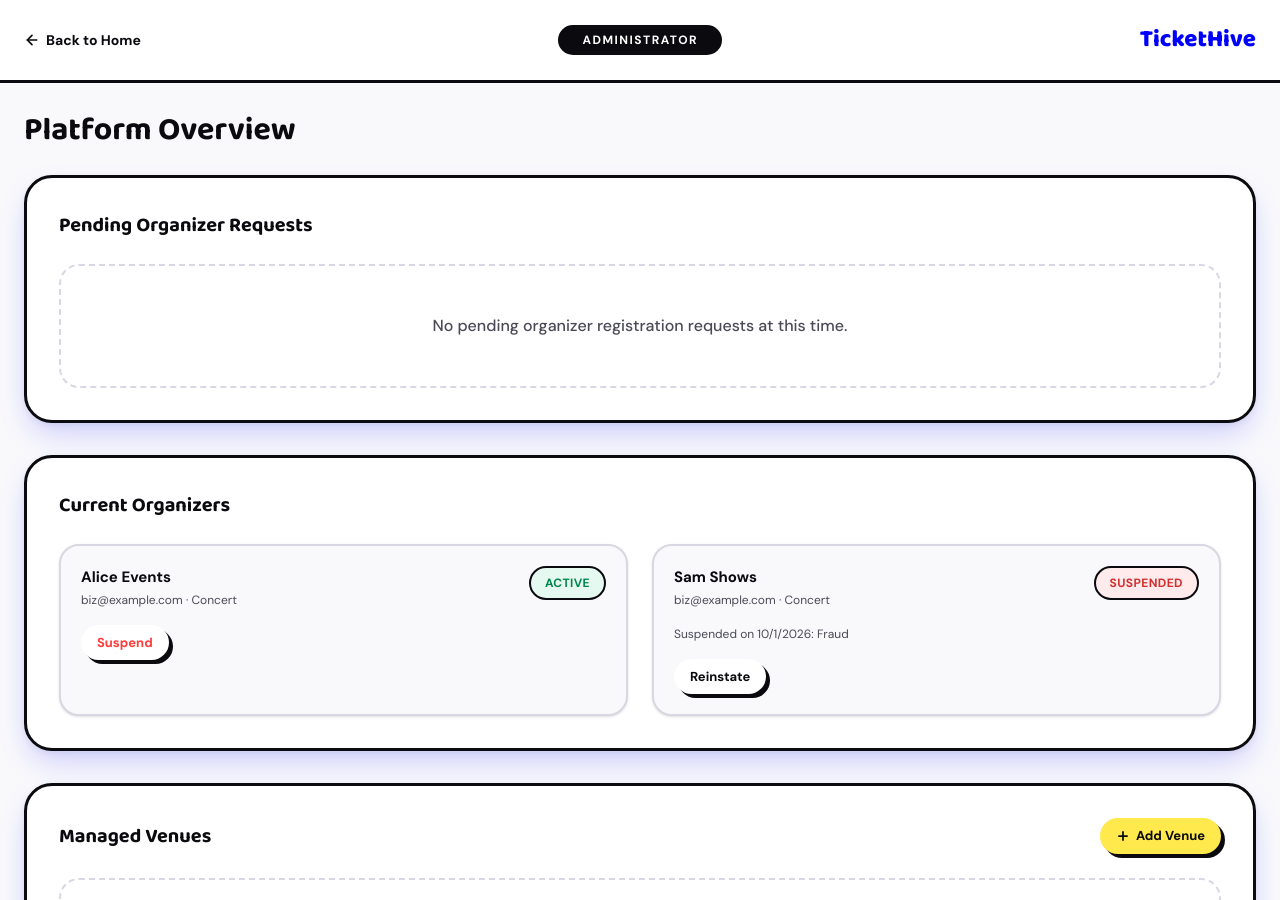
Test: AdminDashboard organizer suspension › keeps the dialog open and shows the ProblemDetails message when the server refuses
Click the button with aria-label "Suspend Alice Events": (125, 642) [81,624,169,660]
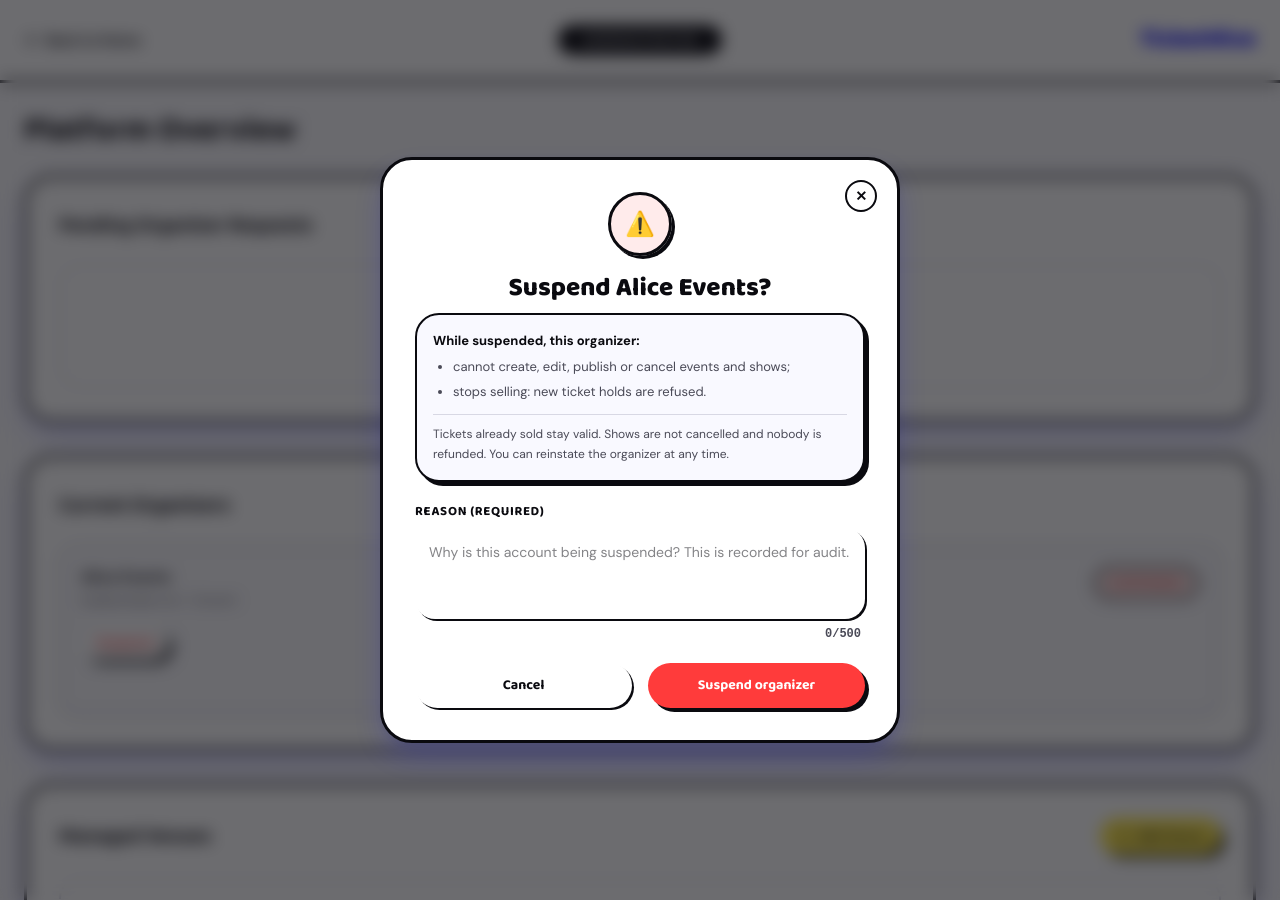
In the text box labelled "Reason (required)": (640, 573) [415,528,865,619], type "Fraud"
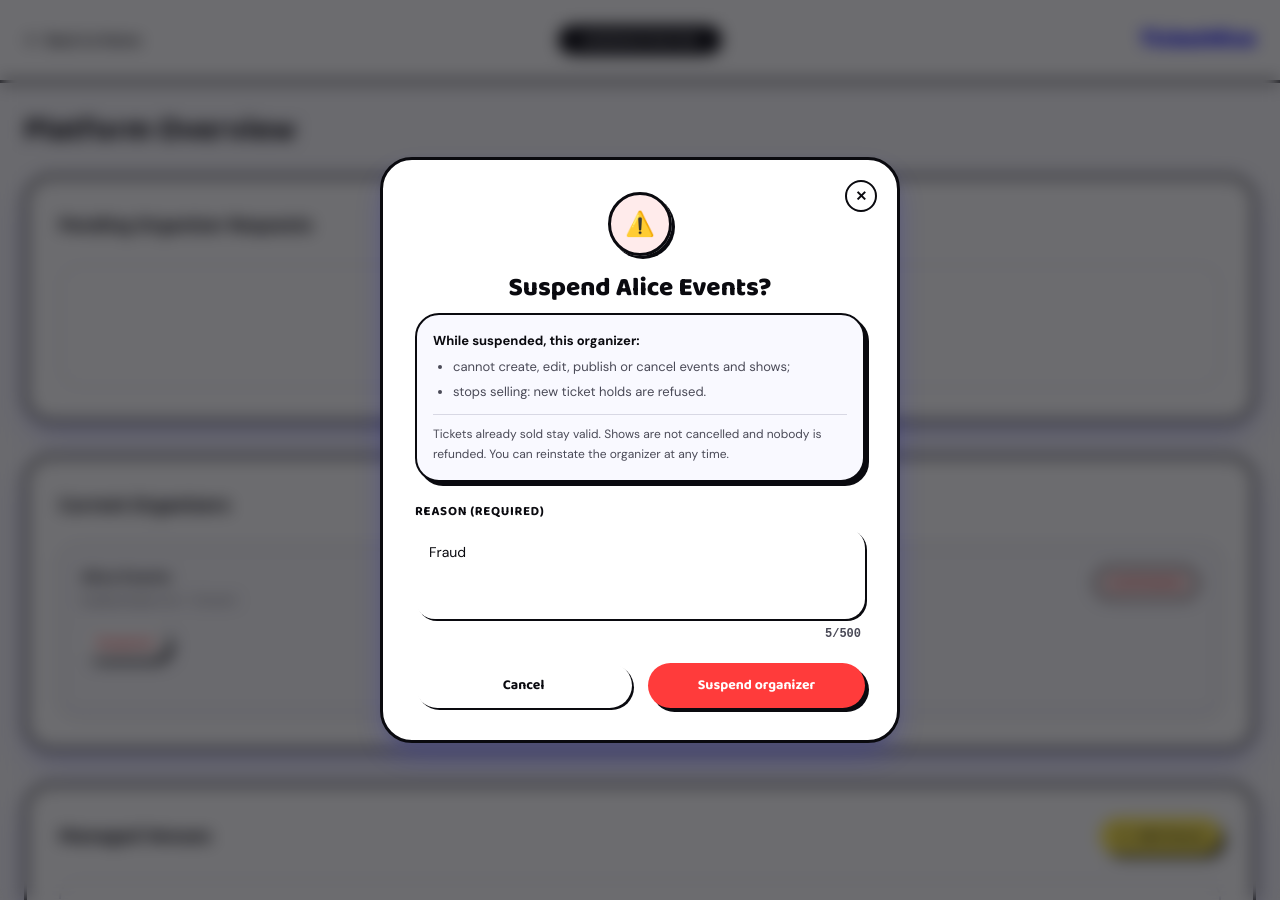
Click the button "Suspend organizer": (756, 685) [648,663,865,708]
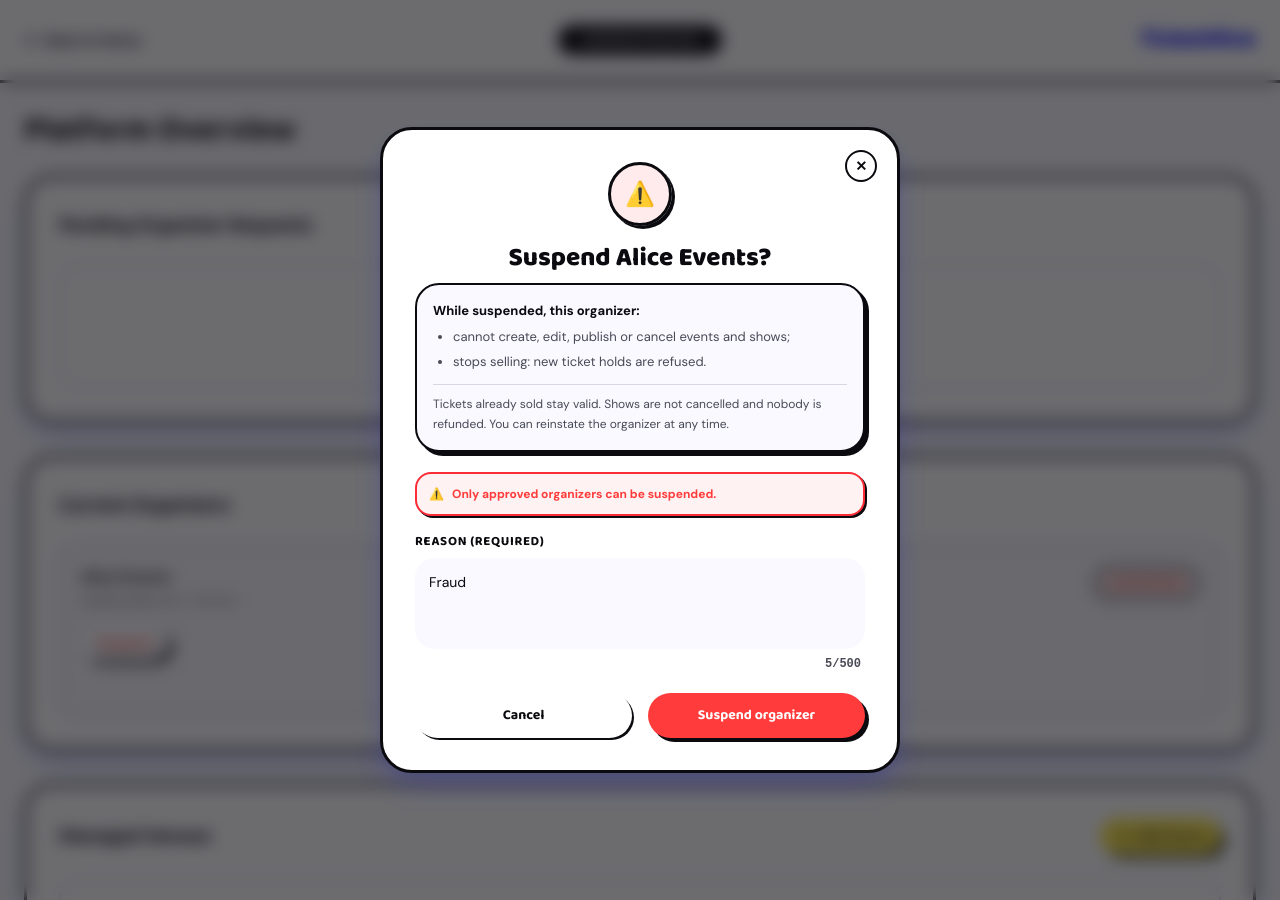
Check: the dialog is shown, box [380,127,900,773]
Check: the message shows "Only approved organizers can be suspended.", box [452,486,716,502]
